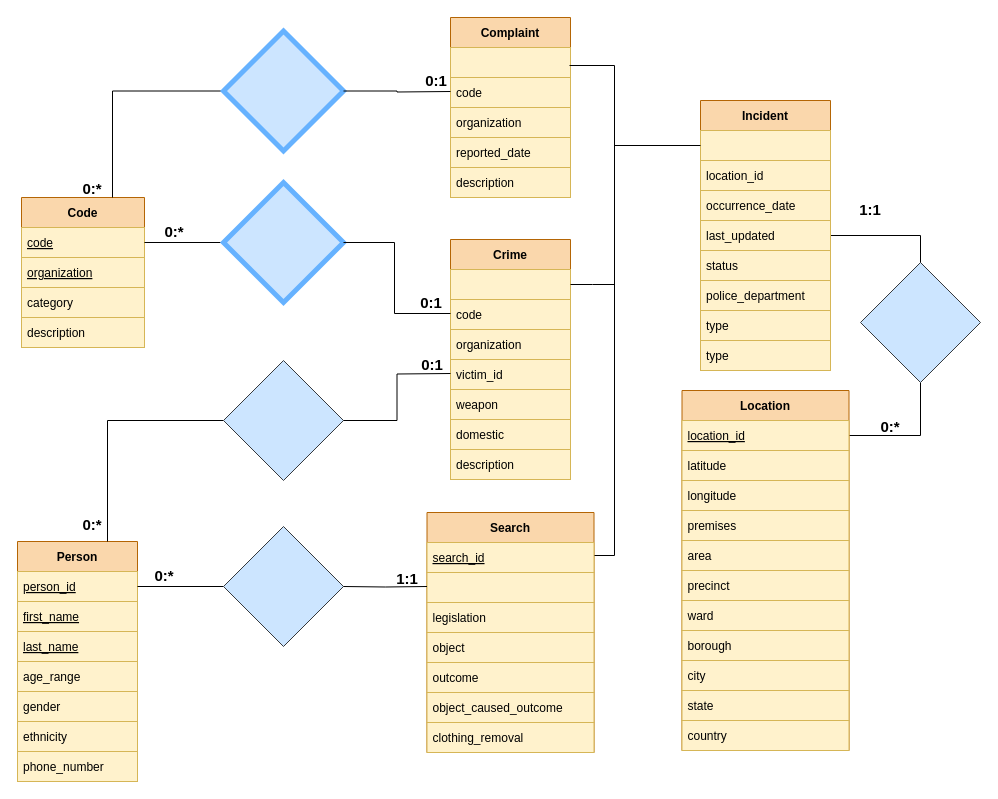
This 998x799 diagram has some shape labels left out. The box of each missing label's shape, as (x1, y1, x2, y2) in pixels:
complaint_id: (450, 46, 570, 78)
complaintOfCode: (220, 28, 346, 153)
crime_id: (450, 268, 570, 300)
crimeOfCode: (220, 180, 346, 304)
happensIn: (860, 262, 980, 382)
incident_id: (700, 130, 830, 160)
suspect_id: (426, 572, 594, 602)
suspectOf: (222, 526, 344, 646)
victimOf: (222, 360, 344, 480)
